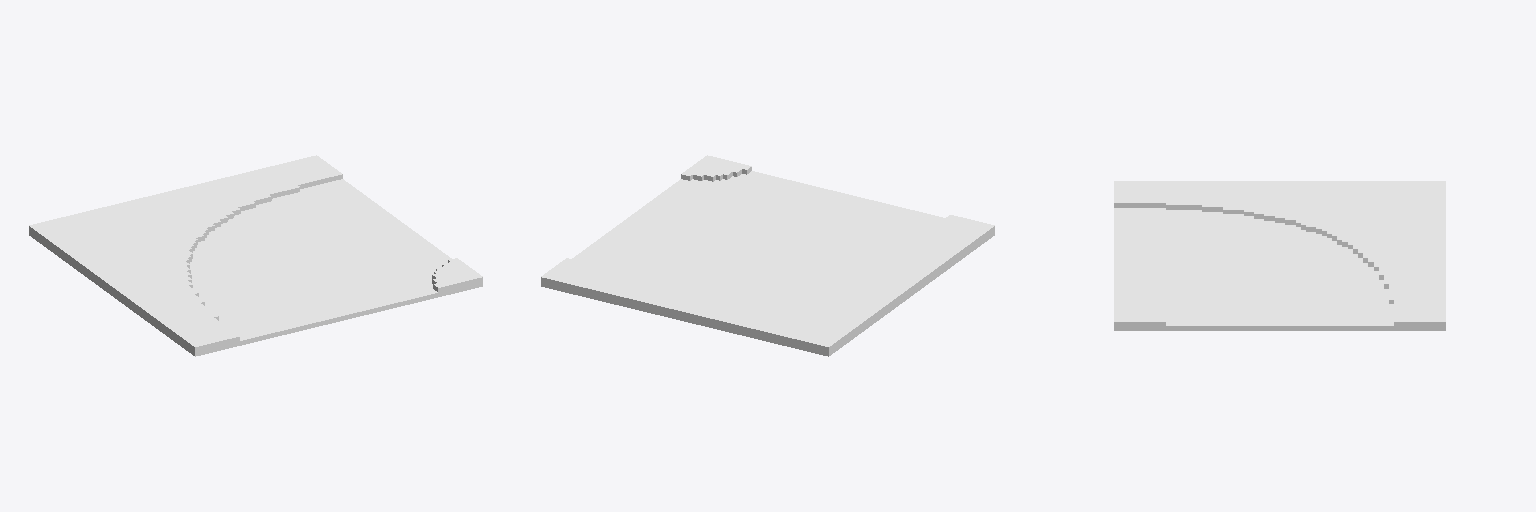
File: RoadTurn90.obj
The picture shows the model from 3 angles: view 1: azimuth 30°, elevation 25°; view 2: azimuth 150°, elevation 25°; view 3: azimuth 270°, elevation 25°; orthographic projection.
Parts seen in each view (by area): view 1: object 1; view 2: object 1; view 3: object 1.
Boxes of the visible parts, x1=… form: object 1: x1=29, y1=155, x2=482, y2=356; object 1: x1=541, y1=155, x2=994, y2=356; object 1: x1=1114, y1=181, x2=1445, y2=330.
Size of the model in its own units: 6.4 by 0.2 by 6.4.